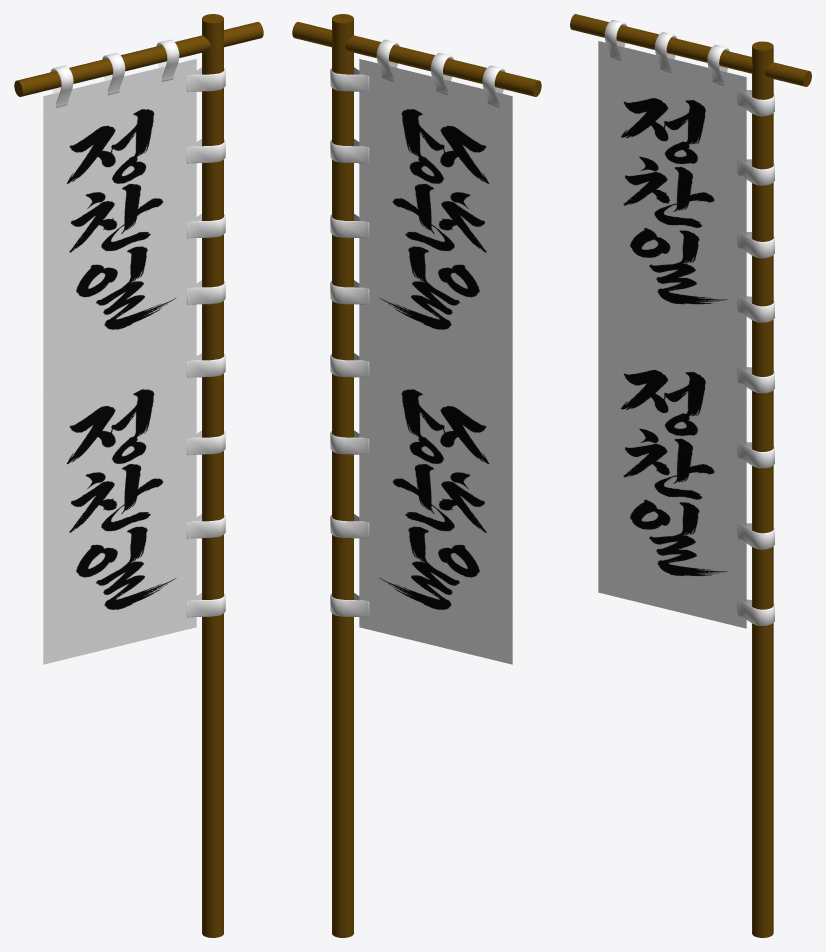
Rendered from Hata_2.fbx.
The picture shows the model from 3 angles, left to right: view 1: azimuth 30°, elevation 25°; view 2: azimuth 150°, elevation 25°; view 3: azimuth 330°, elevation 25°; orthographic projection. The views are drawn at different scales.
Visible parts, largest first — view 1: obj4; view 2: obj4; view 3: obj4.
Part boxes in pixels (left/top/right/bottom): obj4: left=14, top=14, right=263, bottom=937; obj4: left=292, top=14, right=541, bottom=937; obj4: left=570, top=14, right=811, bottom=937.
Bounding box in the file's own units: 6.65 × 73.15 × 265.
3 materials, 1 textured.
